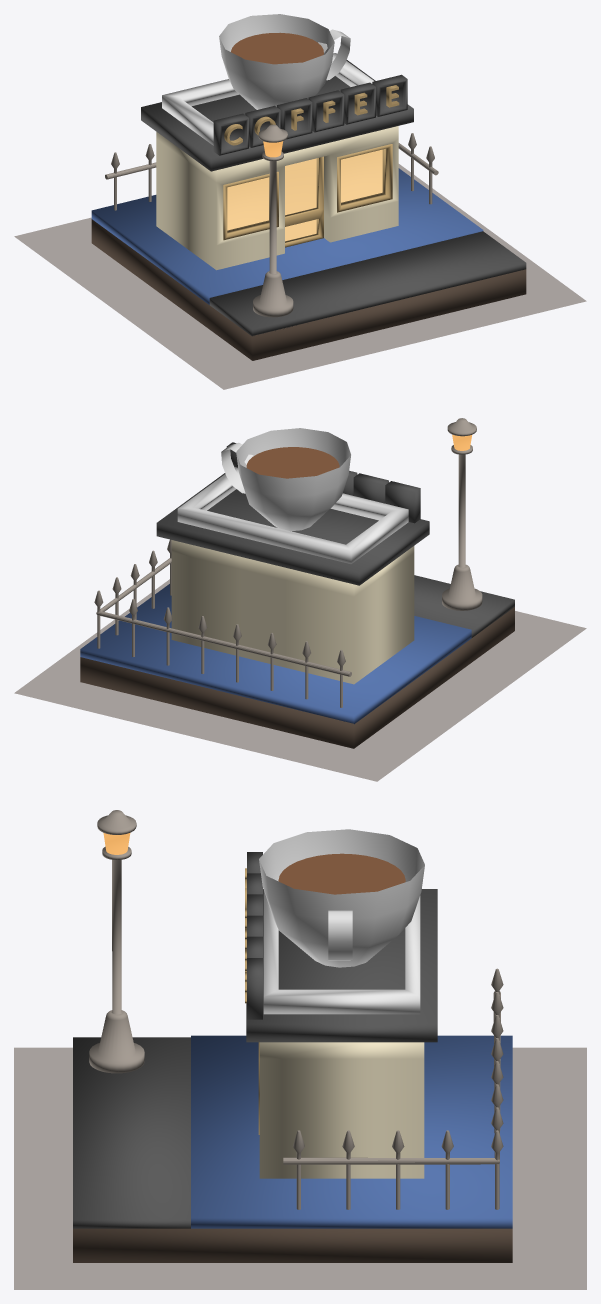
File: coffee-cafe.glb
3 views of the same model, one above another, from view 1: azimuth 30°, elevation 25°; view 2: azimuth 150°, elevation 25°; view 3: azimuth 270°, elevation 25° (orthographic). The views are drawn at different scales.
Visible parts, largest first — view 1: Plane.004, Plane.015, Plane.002, Plane.001, Plane, Circle, Plane.005, Circle.003, Plane.006, Window Frame, Circle.004, Plane.008 (+9 smaller); view 2: Plane.004, Plane.015, Plane.002, Plane, Plane.005, Circle, Plane.006, Circle.003, Plane.001, Plane.009, Circle.004, Plane.007 (+3 smaller); view 3: Plane.015, Plane.002, Plane.004, Plane.001, Plane, Circle, Plane.005, Plane.006, Circle.003, Circle.004, Plane.009, Plane.007 (+2 smaller).
Part boxes in pixels (x1,y1,x2,y2): Plane.004: (156, 126, 398, 270); Plane.015: (14, 164, 586, 389); Plane.002: (91, 168, 483, 304); Plane.001: (209, 231, 526, 336); Plane: (91, 219, 526, 360); Circle: (219, 14, 334, 109); Plane.005: (141, 60, 413, 171); Circle.003: (253, 124, 293, 317); Plane.006: (162, 53, 373, 145); Window Frame: (223, 144, 392, 240); Circle.004: (231, 32, 323, 64); Plane.008: (285, 156, 323, 247); Plane.004: (171, 540, 414, 684); Plane.015: (14, 579, 586, 781); Plane.002: (80, 584, 471, 724); Plane: (80, 607, 514, 748); Plane.005: (156, 473, 429, 585); Circle: (236, 428, 350, 531); Plane.006: (177, 467, 408, 563); Circle.003: (442, 418, 482, 610); Plane.001: (414, 575, 514, 637); Plane.009: (94, 539, 345, 707); Circle.004: (246, 447, 339, 478); Plane.007: (96, 558, 351, 676); Plane.015: (14, 1047, 586, 1289); Plane.002: (191, 1035, 512, 1228); Plane.004: (259, 1042, 424, 1178); Plane.001: (73, 1037, 190, 1228); Plane: (73, 1228, 512, 1262); Circle: (259, 829, 424, 967); Plane.005: (246, 889, 437, 1042); Plane.006: (263, 890, 420, 1014); Circle.003: (89, 810, 144, 1073); Circle.004: (278, 853, 405, 894); Plane.009: (293, 968, 503, 1209); Plane.007: (283, 991, 500, 1164).
Size of the model in its own units: 13.66 by 7.93 by 13.66.
